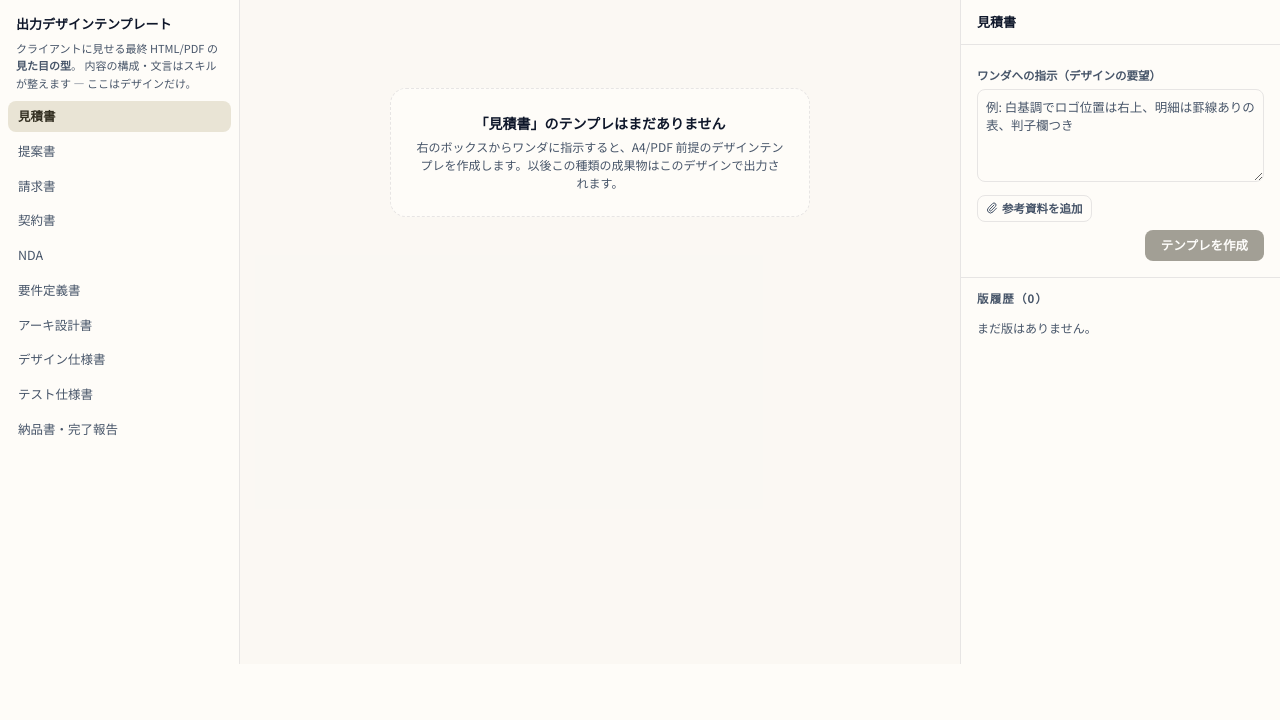
Test case: Bridge を使う各画面に接続フローが出る (GAP-168) › **未接続でない 503** は接続フローを出さず、サーバーの理由をそのまま出す (GAP-206)
Type "紺基調で" into the text box labelled "ワンダへの指示（デザインの要望）".
click(1120, 135); type("紺基調で")  # box [977,88,1264,182]
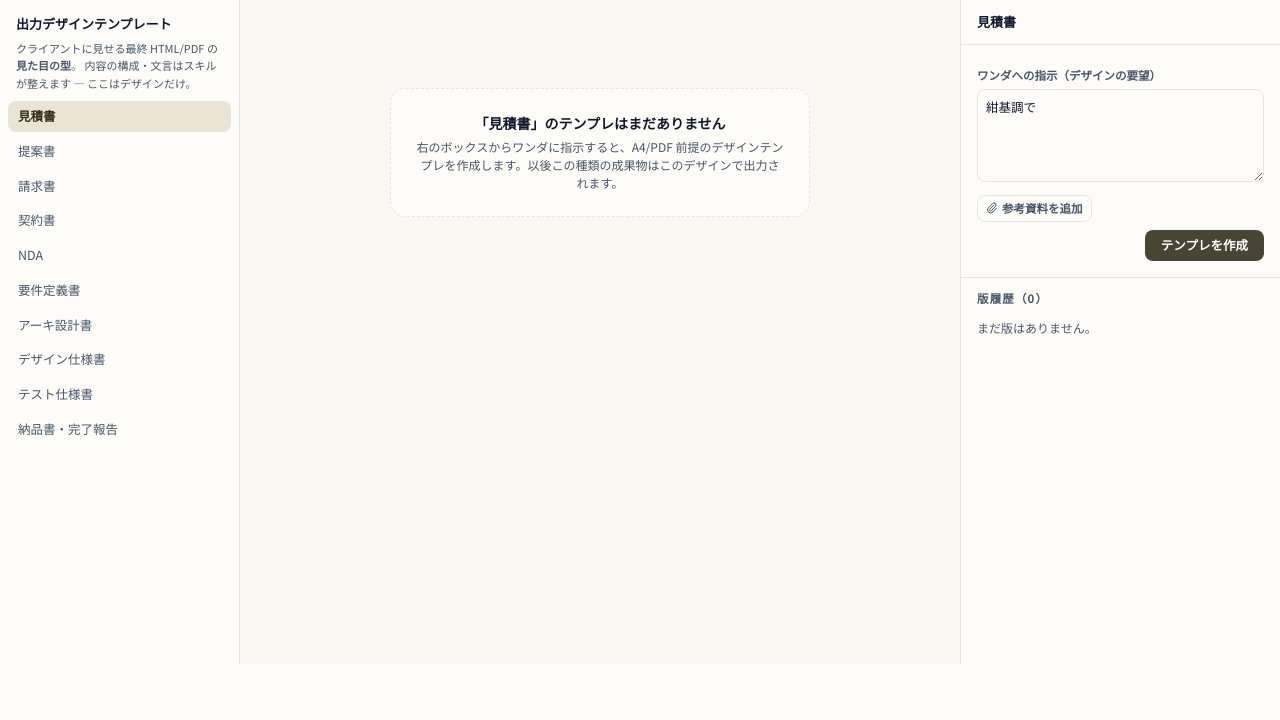
Click the button "テンプレを作成".
click(1204, 245)  # box [1145,230,1264,261]
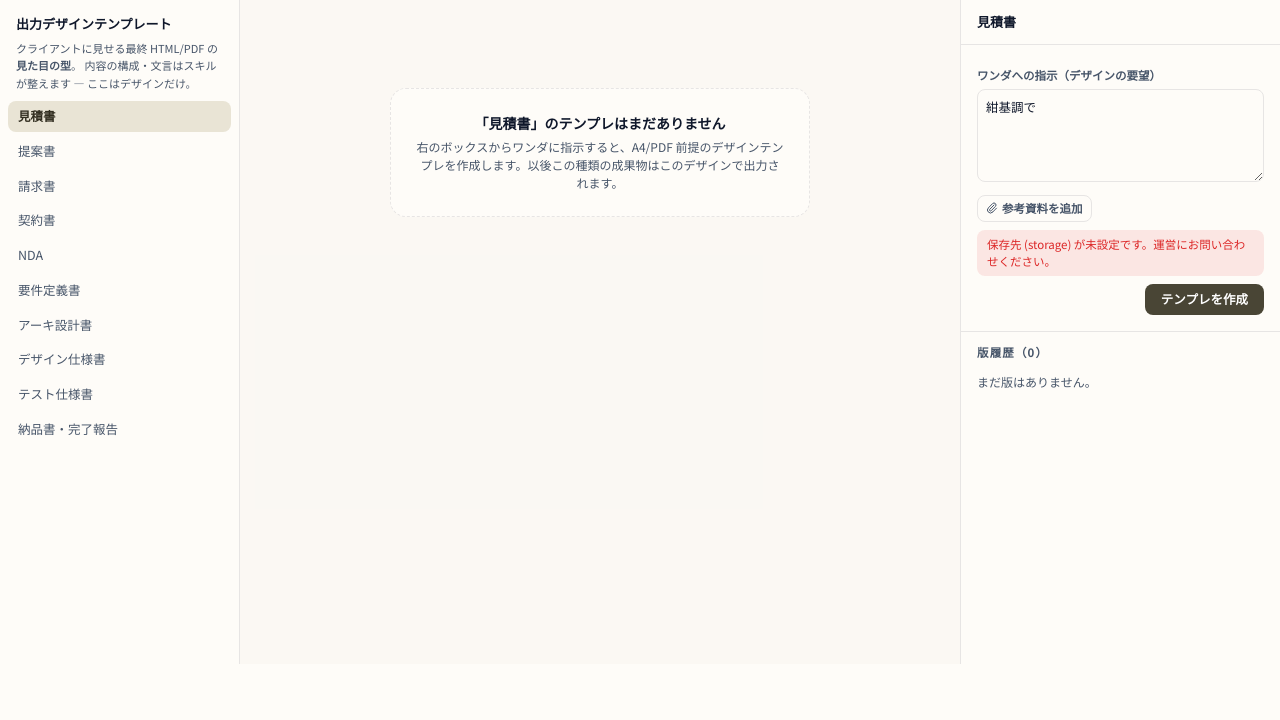
Check: the message shows "保存先 (storage) が未設定です", box [987,236,1245,269]
